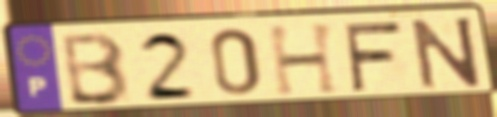0: (207, 26, 266, 100)
2: (135, 30, 198, 100)
B: (60, 30, 134, 108)
F: (339, 18, 405, 94)
H: (264, 20, 343, 98)
N: (408, 14, 485, 92)
